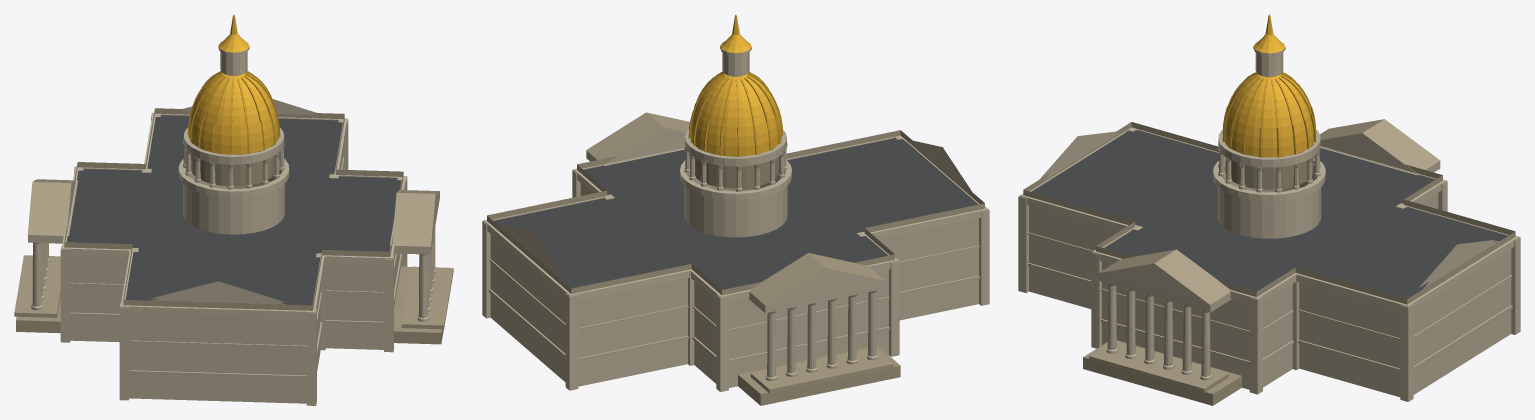
File: georgia-state-capitol.glb
The picture shows the model from 3 angles, left to right: view 1: azimuth 30°, elevation 25°; view 2: azimuth 150°, elevation 25°; view 3: azimuth 270°, elevation 25°; orthographic projection.
Visible parts, largest first — view 1: lod0_bld_roof, lod0_bld_wall, lod0_lm_flood, lod1_lm_flood, lod0_lm_gold, lod0_lm_stone, lod1_lm_stone; view 2: lod0_bld_roof, lod0_bld_wall, lod0_lm_flood, lod1_lm_flood, lod0_lm_gold, lod0_lm_stone, lod1_lm_stone; view 3: lod0_bld_roof, lod0_bld_wall, lod0_lm_flood, lod1_lm_flood, lod0_lm_gold, lod0_lm_stone, lod1_lm_stone, lod1_bld_wall.
Part boxes in pixels (x1,y1,x2,y2): lod0_bld_roof: [67, 115, 401, 305]; lod0_bld_wall: [70, 153, 401, 403]; lod0_lm_flood: [27, 46, 440, 405]; lod1_lm_flood: [28, 52, 437, 375]; lod0_lm_gold: [187, 14, 280, 155]; lod0_lm_stone: [14, 255, 453, 344]; lod1_lm_stone: [14, 269, 453, 344]; lod0_bld_roof: [493, 138, 977, 289]; lod0_bld_wall: [490, 183, 978, 387]; lod0_lm_flood: [482, 46, 989, 391]; lod1_lm_flood: [487, 52, 984, 380]; lod0_lm_gold: [688, 15, 783, 156]; lod0_lm_stone: [738, 345, 900, 405]; lod1_lm_stone: [750, 364, 900, 405]; lod0_bld_roof: [1032, 130, 1507, 298]; lod0_bld_wall: [1029, 187, 1511, 397]; lod0_lm_flood: [1018, 46, 1520, 401]; lod1_lm_flood: [1020, 53, 1514, 379]; lod0_lm_gold: [1222, 14, 1316, 157]; lod0_lm_stone: [1083, 340, 1241, 405]; lod1_lm_stone: [1117, 364, 1241, 405]; lod1_bld_wall: [1221, 156, 1317, 361].
Size of the model in its own units: 103 by 75.5 by 116.
